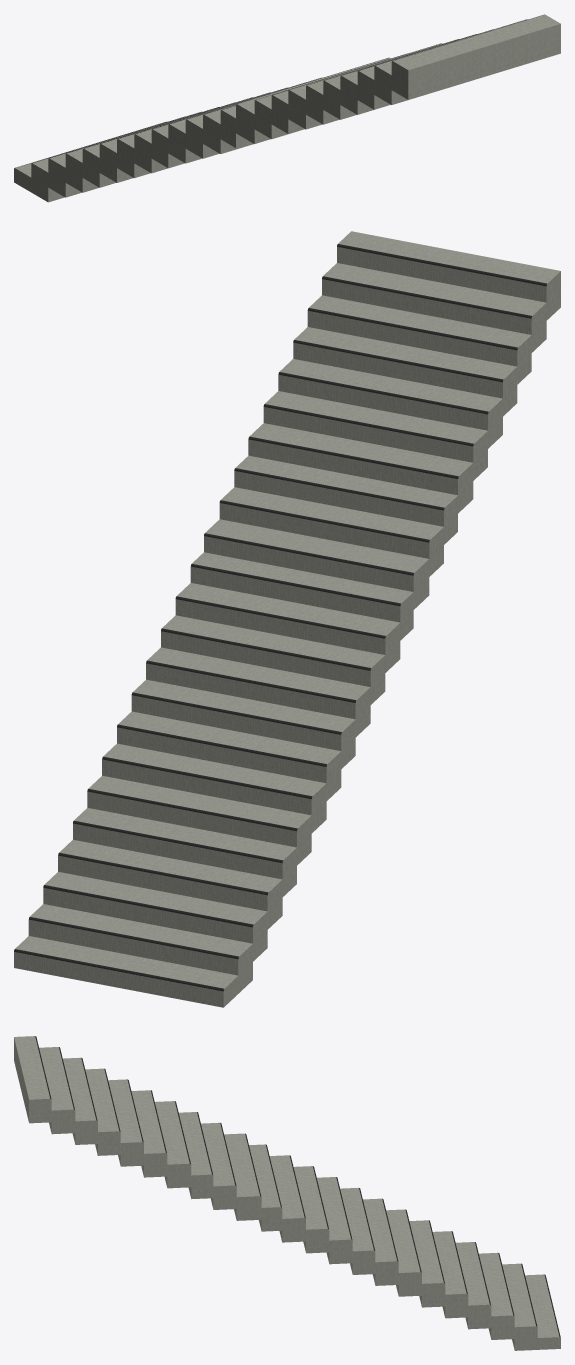
The model's file is staircase2_jpeg_draco.glb.
3 views of the same model, one above another, from view 1: azimuth 30°, elevation 25°; view 2: azimuth 150°, elevation 25°; view 3: azimuth 270°, elevation 25° (orthographic). The views are drawn at different scales.
Parts seen in each view (by area): view 1: Cube_051; view 2: Cube_051; view 3: Cube_051.
Part boxes in pixels (x1=…): Cube_051: x1=14, y1=14, x2=560, y2=202; Cube_051: x1=14, y1=231, x2=560, y2=1007; Cube_051: x1=14, y1=1036, x2=560, y2=1350.
Size of the model in its own units: 2.44 by 3.61 by 6.58.
Materials: 2 (1 with a texture image).
